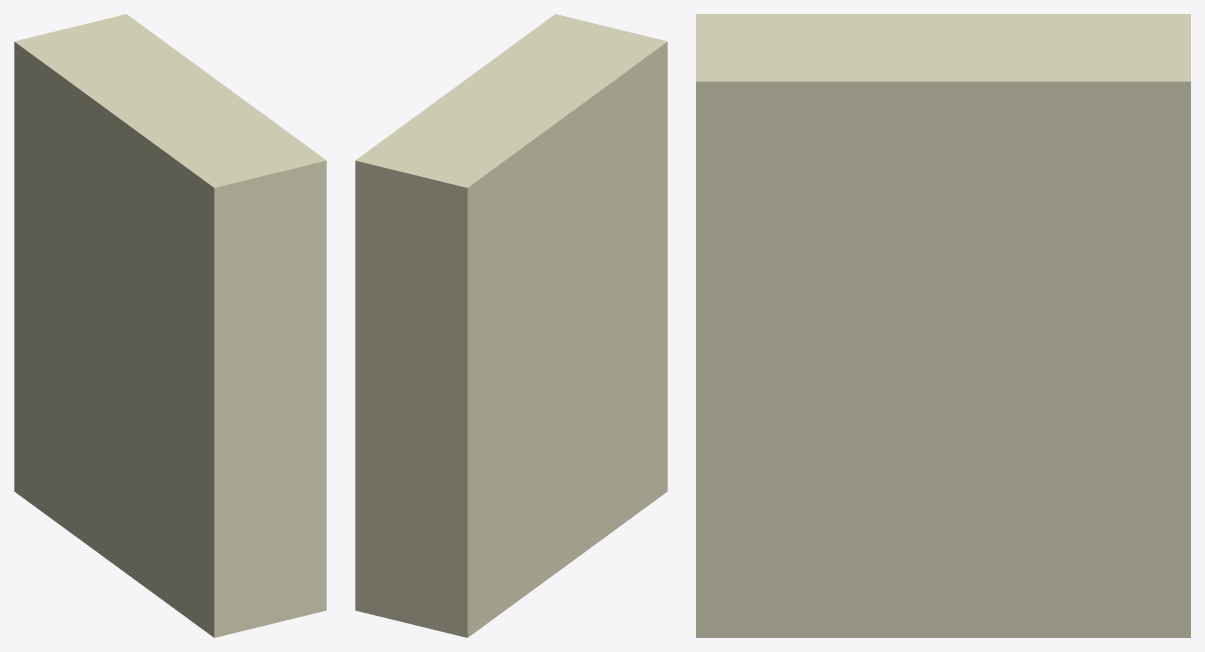
File: Collection.fbx
3 views of the same model, side by side, from view 1: azimuth 30°, elevation 25°; view 2: azimuth 150°, elevation 25°; view 3: azimuth 270°, elevation 25° (orthographic). The views are drawn at different scales.
Visible parts, largest first — view 1: Cube.016; view 2: Cube.016; view 3: Cube.016.
Boxes of the visible parts, x1=… form: Cube.016: x1=14, y1=14, x2=326, y2=637; Cube.016: x1=355, y1=14, x2=667, y2=637; Cube.016: x1=696, y1=14, x2=1190, y2=637.
Bounding box in the file's own units: 173 × 663 × 535.
